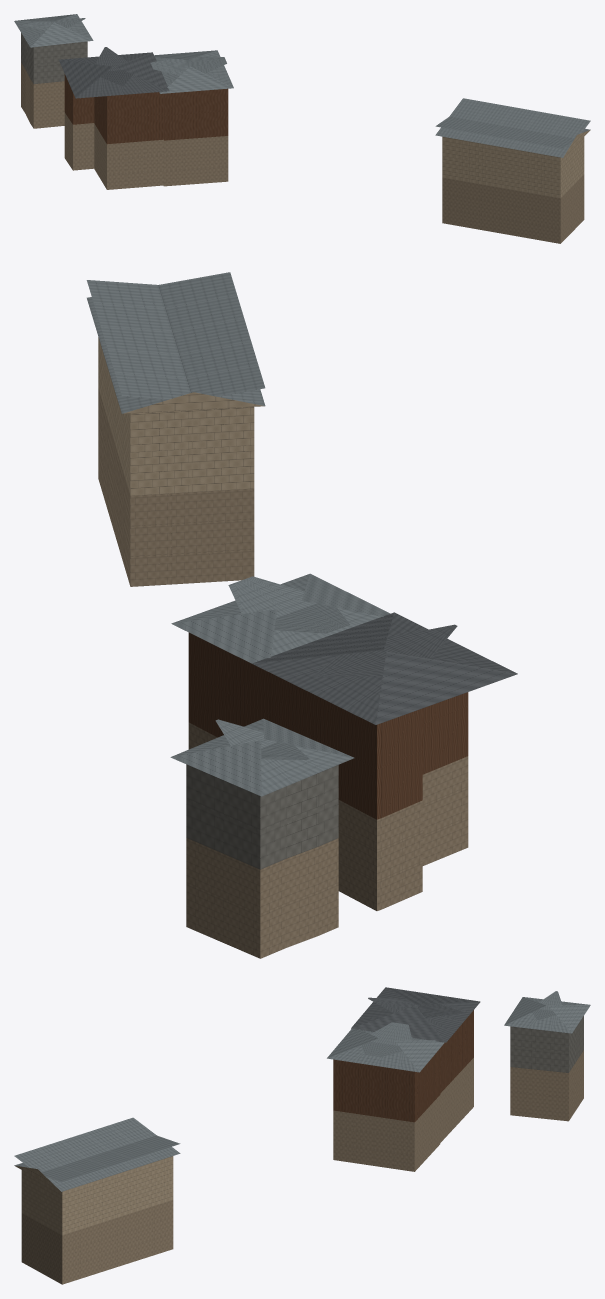
File: bld_c23_45_388.gltf
3 renders of one model, top to bottom at view 1: azimuth 30°, elevation 25°; view 2: azimuth 150°, elevation 25°; view 3: azimuth 270°, elevation 25°, orthographic. The views are drawn at different scales.
Visible parts, largest first — view 1: bld_c23_45_388; view 2: bld_c23_45_388; view 3: bld_c23_45_388.
Boxes of the visible parts, box(x1,y1,x2,y2) form: bld_c23_45_388: box(14, 14, 590, 243); bld_c23_45_388: box(86, 272, 517, 958); bld_c23_45_388: box(14, 987, 590, 1284).
Bounding box in the file's own units: 42.65 × 12.1 × 53.88.
7 materials, 7 textured.
